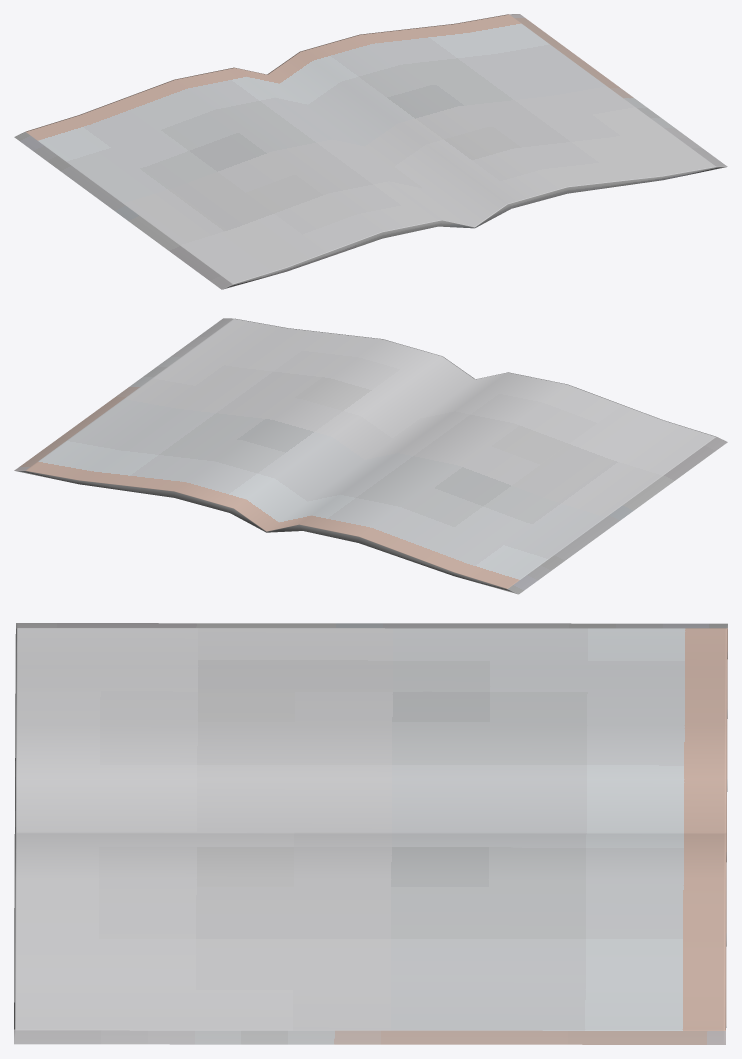
File: a_sch_entrance01_obj_notebook01.gltf
3 views of the same model, one above another, from view 1: azimuth 30°, elevation 25°; view 2: azimuth 150°, elevation 25°; view 3: azimuth 270°, elevation 25° (orthographic). The views are drawn at different scales.
Parts seen in each view (by area): view 1: a_sch_entrance01_obj_notebook01_mesh_shape:a_sch_office02_no; view 2: a_sch_entrance01_obj_notebook01_mesh_shape:a_sch_office02_no; view 3: a_sch_entrance01_obj_notebook01_mesh_shape:a_sch_office02_no.
Part boxes in pixels (x1,y1,x2,y2): a_sch_entrance01_obj_notebook01_mesh_shape:a_sch_office02_no: (14,14,727,289); a_sch_entrance01_obj_notebook01_mesh_shape:a_sch_office02_no: (14,318,727,594); a_sch_entrance01_obj_notebook01_mesh_shape:a_sch_office02_no: (14,623,727,1044).
Bounding box in the file's own units: 0.4206 × 0.0147 × 0.3008.
Materials: 1 (1 with a texture image).
